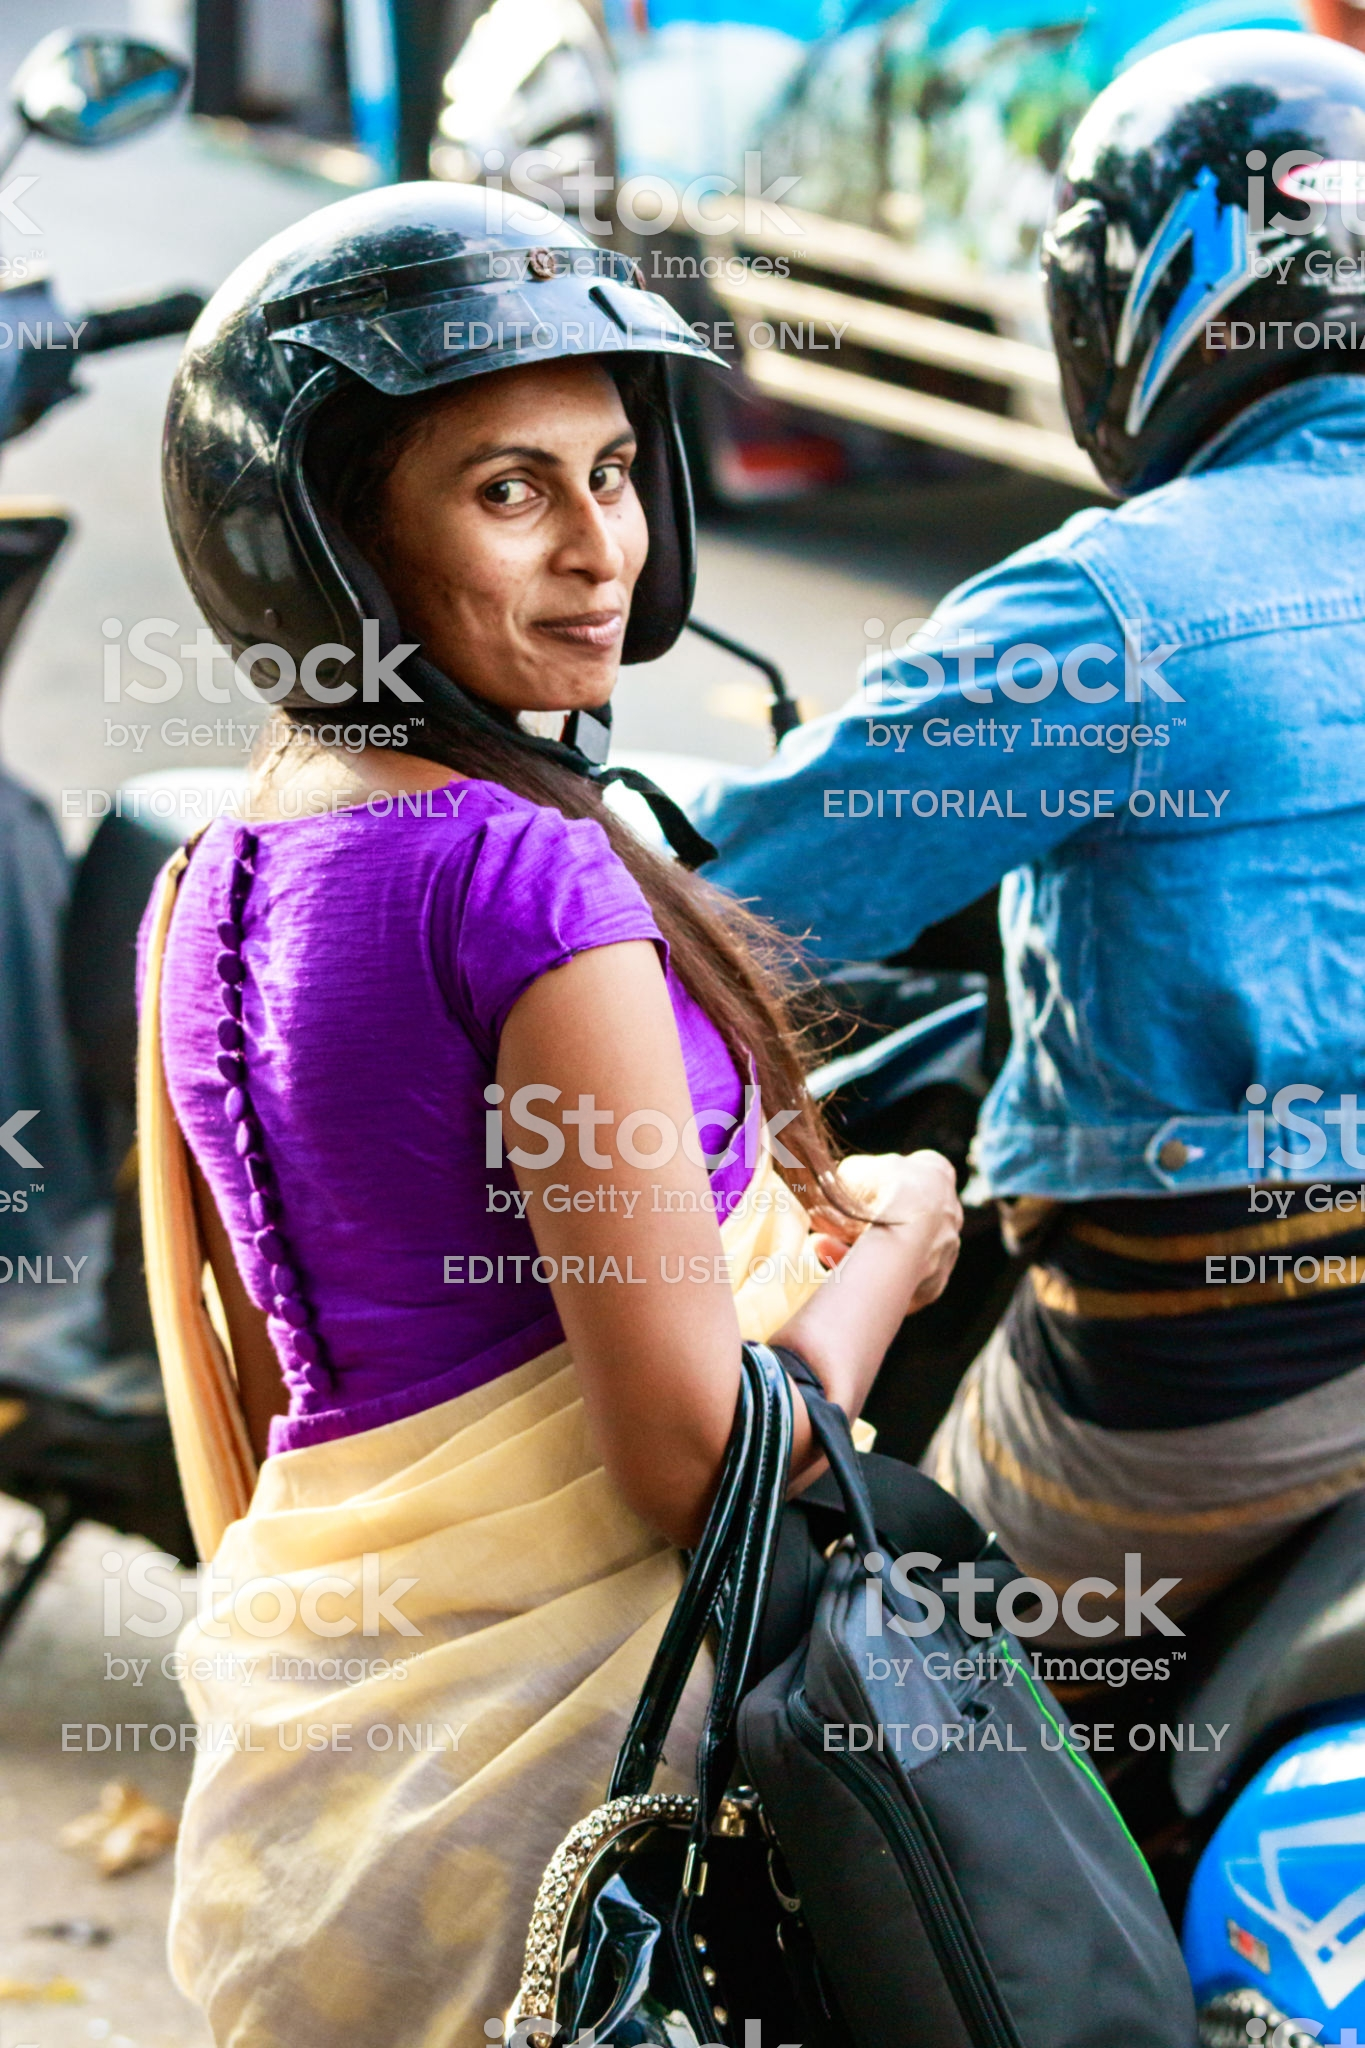helmet: (171, 187, 757, 738), (1018, 59, 1365, 422)
